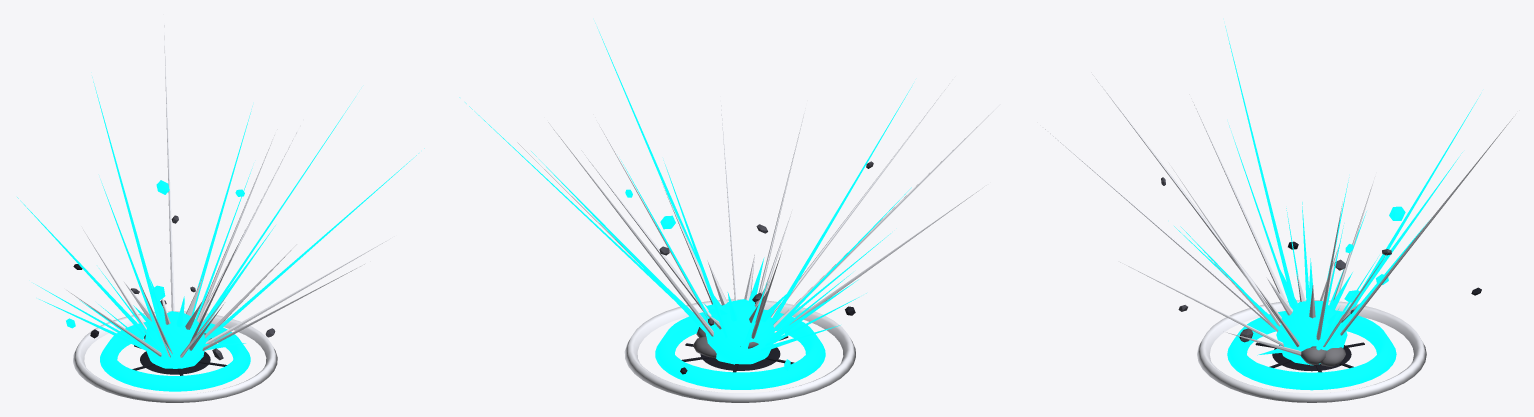
Rendered from GravitySniper_Impact_ap.fbx.
The picture shows the model from 3 angles, left to right: view 1: azimuth 30°, elevation 25°; view 2: azimuth 150°, elevation 25°; view 3: azimuth 270°, elevation 25°; orthographic projection. The views are drawn at different scales.
Parts seen in each view (by area): view 1: Imp_Chispas_ap, Imp_Onda_ap, Imp_Flash_ap, Imp_Escombros_ap, Imp_Crater_ap; view 2: Imp_Chispas_ap, Imp_Onda_ap, Imp_Flash_ap, Imp_Escombros_ap, Imp_Crater_ap; view 3: Imp_Onda_ap, Imp_Chispas_ap, Imp_Flash_ap, Imp_Escombros_ap, Imp_Crater_ap, Imp_Humo_ap.
Boxes of the visible parts, x1,y1,x2,y2 form: Imp_Chispas_ap: [17, 23, 424, 359]; Imp_Onda_ap: [73, 311, 277, 402]; Imp_Flash_ap: [123, 276, 245, 368]; Imp_Escombros_ap: [66, 180, 275, 360]; Imp_Crater_ap: [132, 345, 226, 375]; Imp_Chispas_ap: [459, 23, 1000, 352]; Imp_Onda_ap: [624, 299, 855, 402]; Imp_Flash_ap: [703, 254, 788, 364]; Imp_Escombros_ap: [625, 161, 873, 374]; Imp_Crater_ap: [681, 336, 794, 372]; Imp_Onda_ap: [1197, 300, 1426, 402]; Imp_Chispas_ap: [1045, 26, 1512, 355]; Imp_Flash_ap: [1257, 246, 1359, 365]; Imp_Escombros_ap: [1161, 177, 1481, 342]; Imp_Crater_ap: [1255, 342, 1364, 372]; Imp_Humo_ap: [1300, 346, 1345, 366].
Size of the model in its own units: 32.87 by 21.79 by 31.65.
